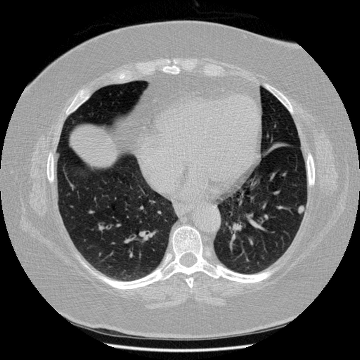nodule: (297, 205, 305, 213)
